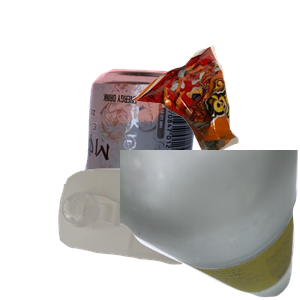glass: (120, 150, 300, 300)
metal: (82, 66, 270, 246)
plastic: (56, 166, 241, 300)
trash: (130, 43, 300, 190)
